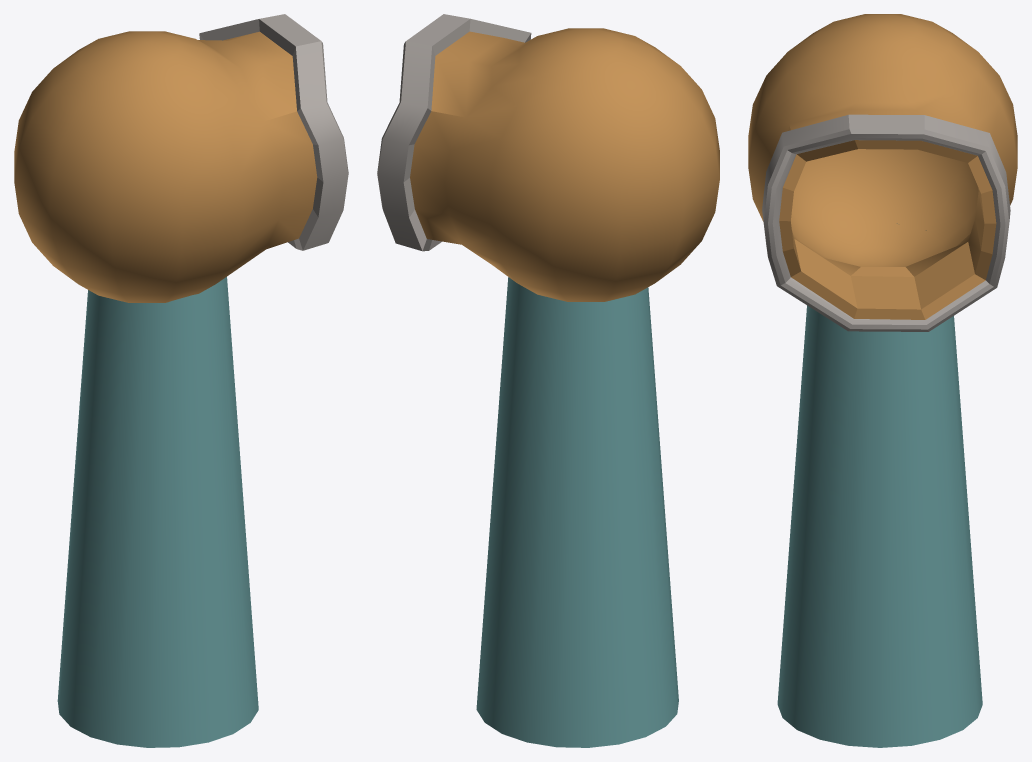
Rendered from canon.fbx.
3 views of the same model, side by side, from view 1: azimuth 30°, elevation 25°; view 2: azimuth 150°, elevation 25°; view 3: azimuth 270°, elevation 25° (orthographic).
Visible parts, largest first — view 1: pSphere7; view 2: pSphere7; view 3: pSphere7.
Boxes of the visible parts, x1,y1,x2,y2 form: pSphere7: (14,14,348,747); pSphere7: (377,14,719,747); pSphere7: (748,14,1017,747).
Bounding box in the file's own units: 11.45 × 26.24 × 9.51.
